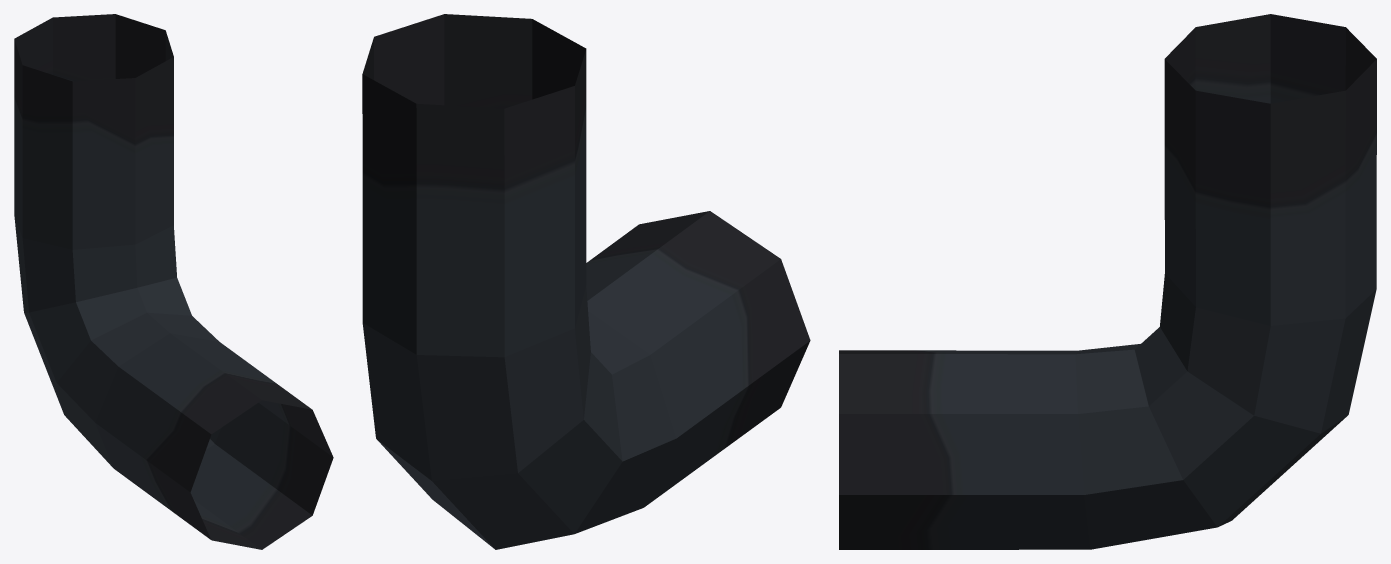
Rendered from SM_Stove_Pipe_B_02.fbx.
The picture shows the model from 3 angles, left to right: view 1: azimuth 30°, elevation 25°; view 2: azimuth 150°, elevation 25°; view 3: azimuth 270°, elevation 25°; orthographic projection. The views are drawn at different scales.
Visible parts, largest first — view 1: SM_Stove_Pipe_B_02; view 2: SM_Stove_Pipe_B_02; view 3: SM_Stove_Pipe_B_02.
Boxes of the visible parts, bbox=[...] form: SM_Stove_Pipe_B_02: bbox=[14, 14, 333, 549]; SM_Stove_Pipe_B_02: bbox=[362, 14, 810, 549]; SM_Stove_Pipe_B_02: bbox=[839, 14, 1376, 549].
Size of the model in its own units: 24.6 by 62.3 by 62.3.
